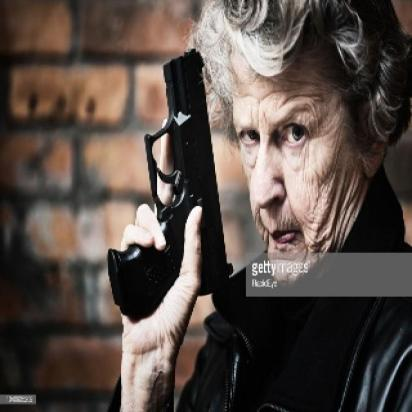Gun: (103, 43, 236, 316)
